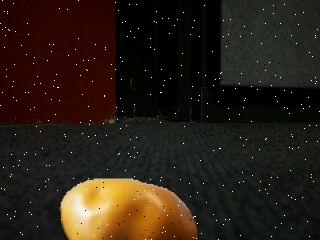Potato: (59, 175, 200, 239)
